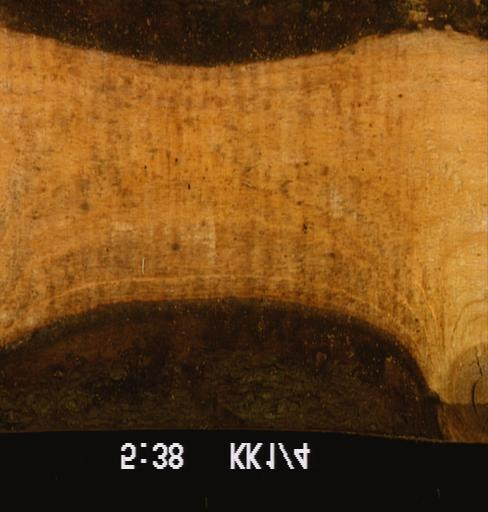sound_knot: (448, 345, 487, 431)
wave: (0, 297, 487, 444), (0, 0, 486, 68)
